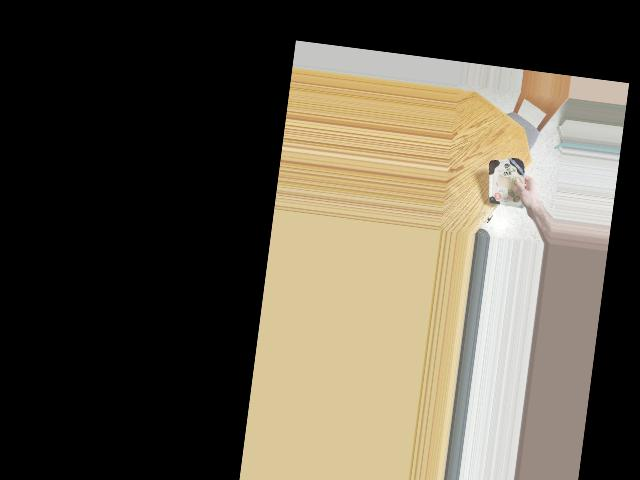cheese: (487, 153, 529, 214)
